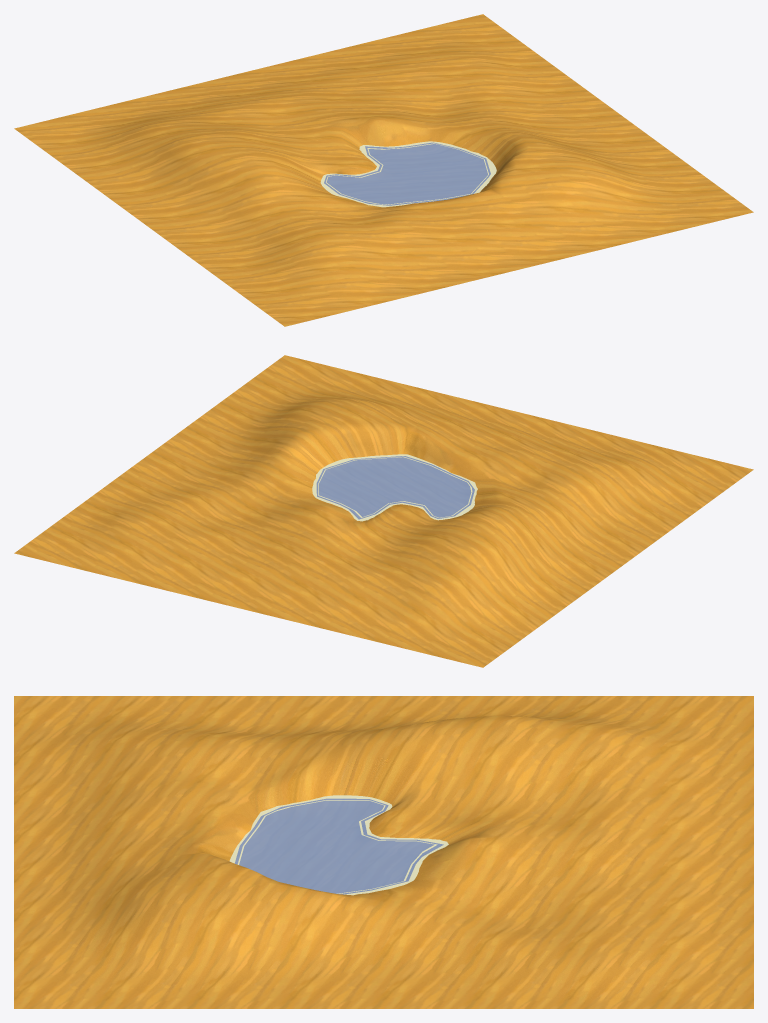
Rendered from sand.glb.
3 renders of one model, top to bottom at view 1: azimuth 30°, elevation 25°; view 2: azimuth 150°, elevation 25°; view 3: azimuth 270°, elevation 25°, orthographic. The views are drawn at different scales.
Parts seen in each view (by area): view 1: sand, water; view 2: sand, water; view 3: sand, water.
Part boxes in pixels (x1,y1,x2,y2): sand: [14, 14, 753, 326]; water: [320, 141, 496, 207]; sand: [14, 355, 753, 667]; water: [312, 454, 477, 521]; sand: [14, 696, 753, 1008]; water: [229, 795, 448, 895].
Size of what is drawn, in the model's own units: 48 by 3.1 by 48.
3 materials, 1 textured.
